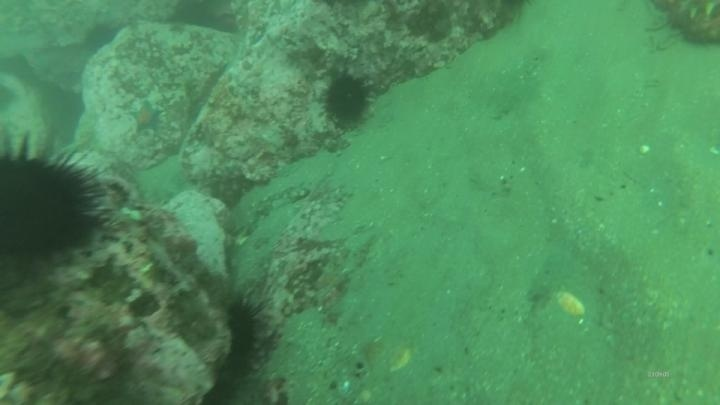echinus: (0, 133, 109, 272), (219, 293, 269, 376), (319, 70, 376, 130)
starfish: (127, 98, 165, 135)
